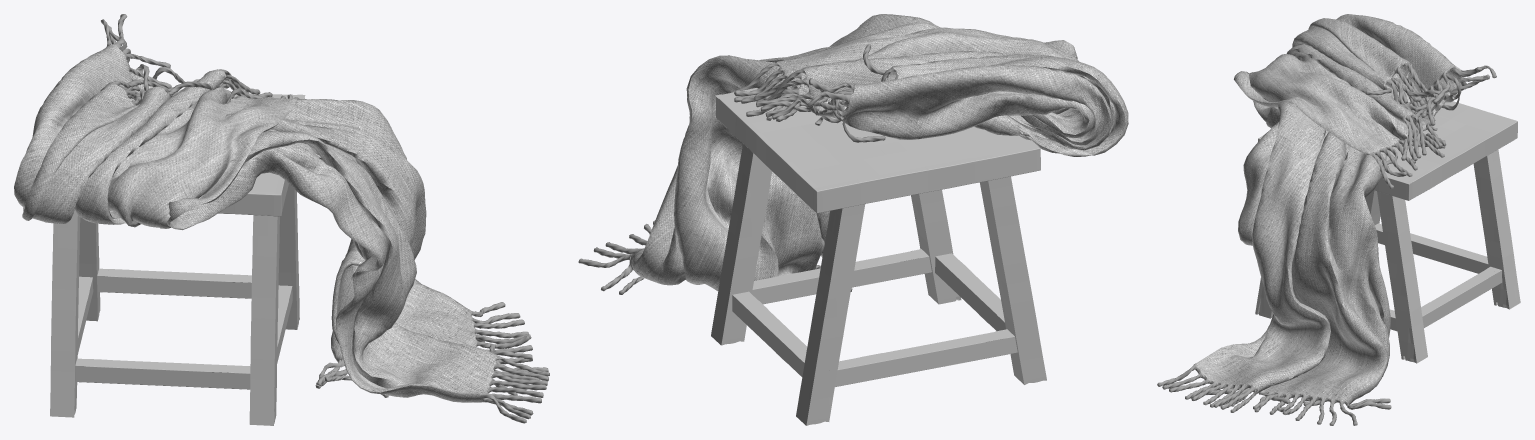
The model's file is blanket.fbx.
3 renders of one model, left to right at view 1: azimuth 30°, elevation 25°; view 2: azimuth 150°, elevation 25°; view 3: azimuth 270°, elevation 25°, orthographic. The views are drawn at different scales.
Parts seen in each view (by area): view 1: TECIDO, PE BANCO.001, ESTRUTURA, FRANJAS, SIT BANCO; view 2: TECIDO, PE BANCO.001, SIT BANCO, ESTRUTURA, FRANJAS; view 3: TECIDO, PE BANCO.001, FRANJAS, SIT BANCO, ESTRUTURA.
Boxes of the visible parts, x1,y1,x2,y2 form: TECIDO: [14, 44, 497, 402]; PE BANCO.001: [50, 184, 299, 425]; ESTRUTURA: [75, 268, 292, 389]; FRANJAS: [101, 14, 549, 423]; SIT BANCO: [179, 90, 305, 216]; TECIDO: [629, 14, 1128, 291]; PE BANCO.001: [711, 144, 1046, 425]; SIT BANCO: [715, 88, 1040, 213]; ESTRUTURA: [732, 249, 1017, 386]; FRANJAS: [578, 44, 897, 294]; TECIDO: [1194, 14, 1464, 404]; PE BANCO.001: [1255, 150, 1520, 363]; FRANJAS: [1157, 62, 1496, 425]; SIT BANCO: [1258, 101, 1517, 200]; ESTRUTURA: [1375, 223, 1502, 331].
Size of the model in its own units: 95.03 by 56.24 by 75.4.
